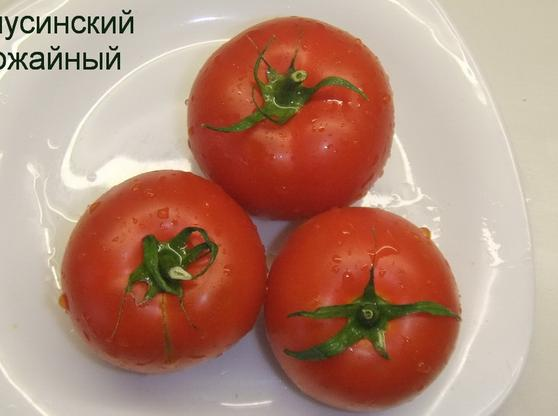tomato: (53, 170, 271, 376), (260, 203, 466, 407), (192, 19, 402, 218)
